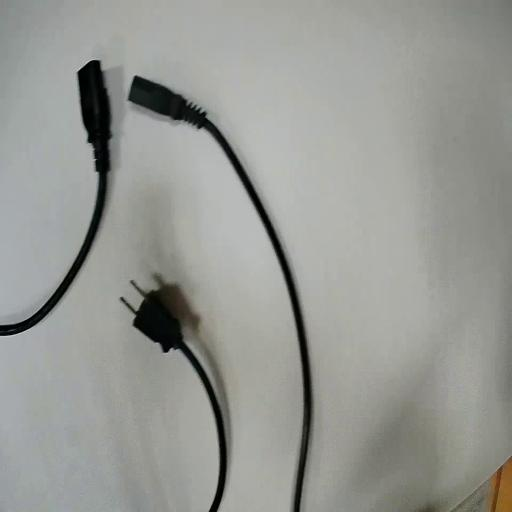wire: (129, 77, 311, 511), (0, 61, 110, 334), (134, 286, 226, 511)
